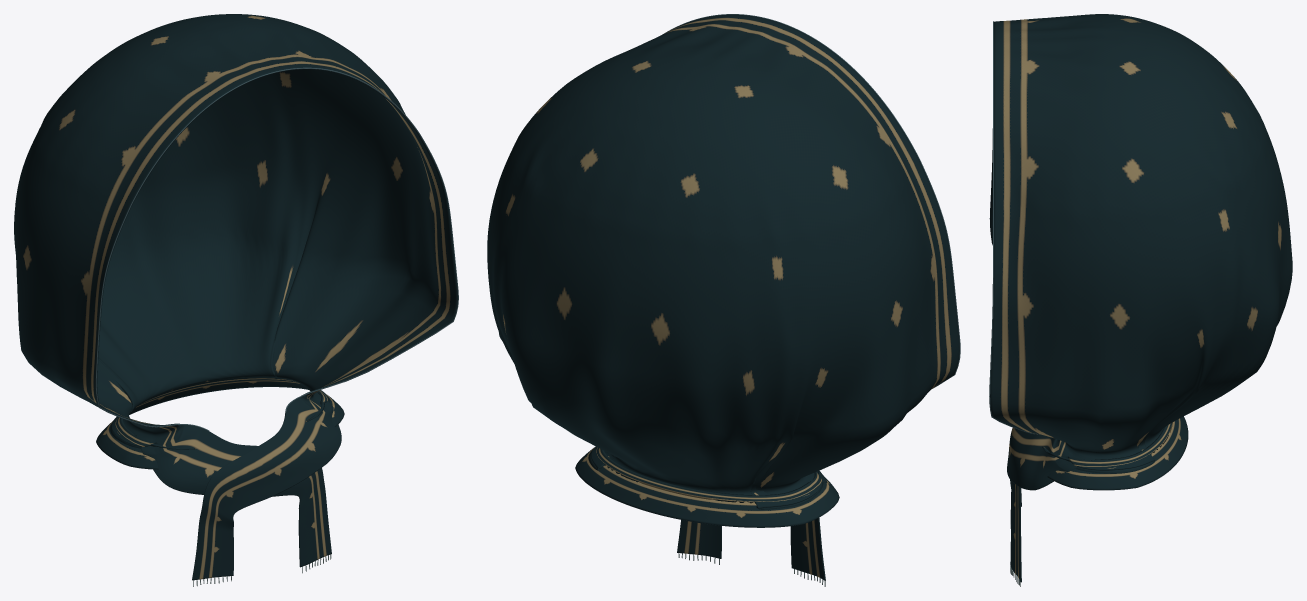
Rendered from Masculine-jersey-pashmina239-headgear.glb.
3 renders of one model, left to right at view 1: azimuth 30°, elevation 25°; view 2: azimuth 150°, elevation 25°; view 3: azimuth 270°, elevation 25°, orthographic. The views are drawn at different scales.
Parts seen in each view (by area): view 1: 226 headgear / Headwear / continuous woven pashmina239, 226 headgear / Headwear / face edge239; view 2: 226 headgear / Headwear / continuous woven pashmina239, 226 headgear / Headwear / face edge239; view 3: 226 headgear / Headwear / continuous woven pashmina239, 226 headgear / Headwear / face edge239.
Part boxes in pixels (x1,y1,x2,y2): 226 headgear / Headwear / continuous woven pashmina239: (14,14,457,580); 226 headgear / Headwear / face edge239: (95,67,458,431); 226 headgear / Headwear / continuous woven pashmina239: (487,14,959,580); 226 headgear / Headwear / face edge239: (664,14,960,388); 226 headgear / Headwear / continuous woven pashmina239: (990,14,1292,582); 226 headgear / Headwear / face edge239: (989,21,1040,434).
Size of the model in its own units: 1.03 by 1.35 by 0.7127.
Materials: 3 (1 with a texture image).
